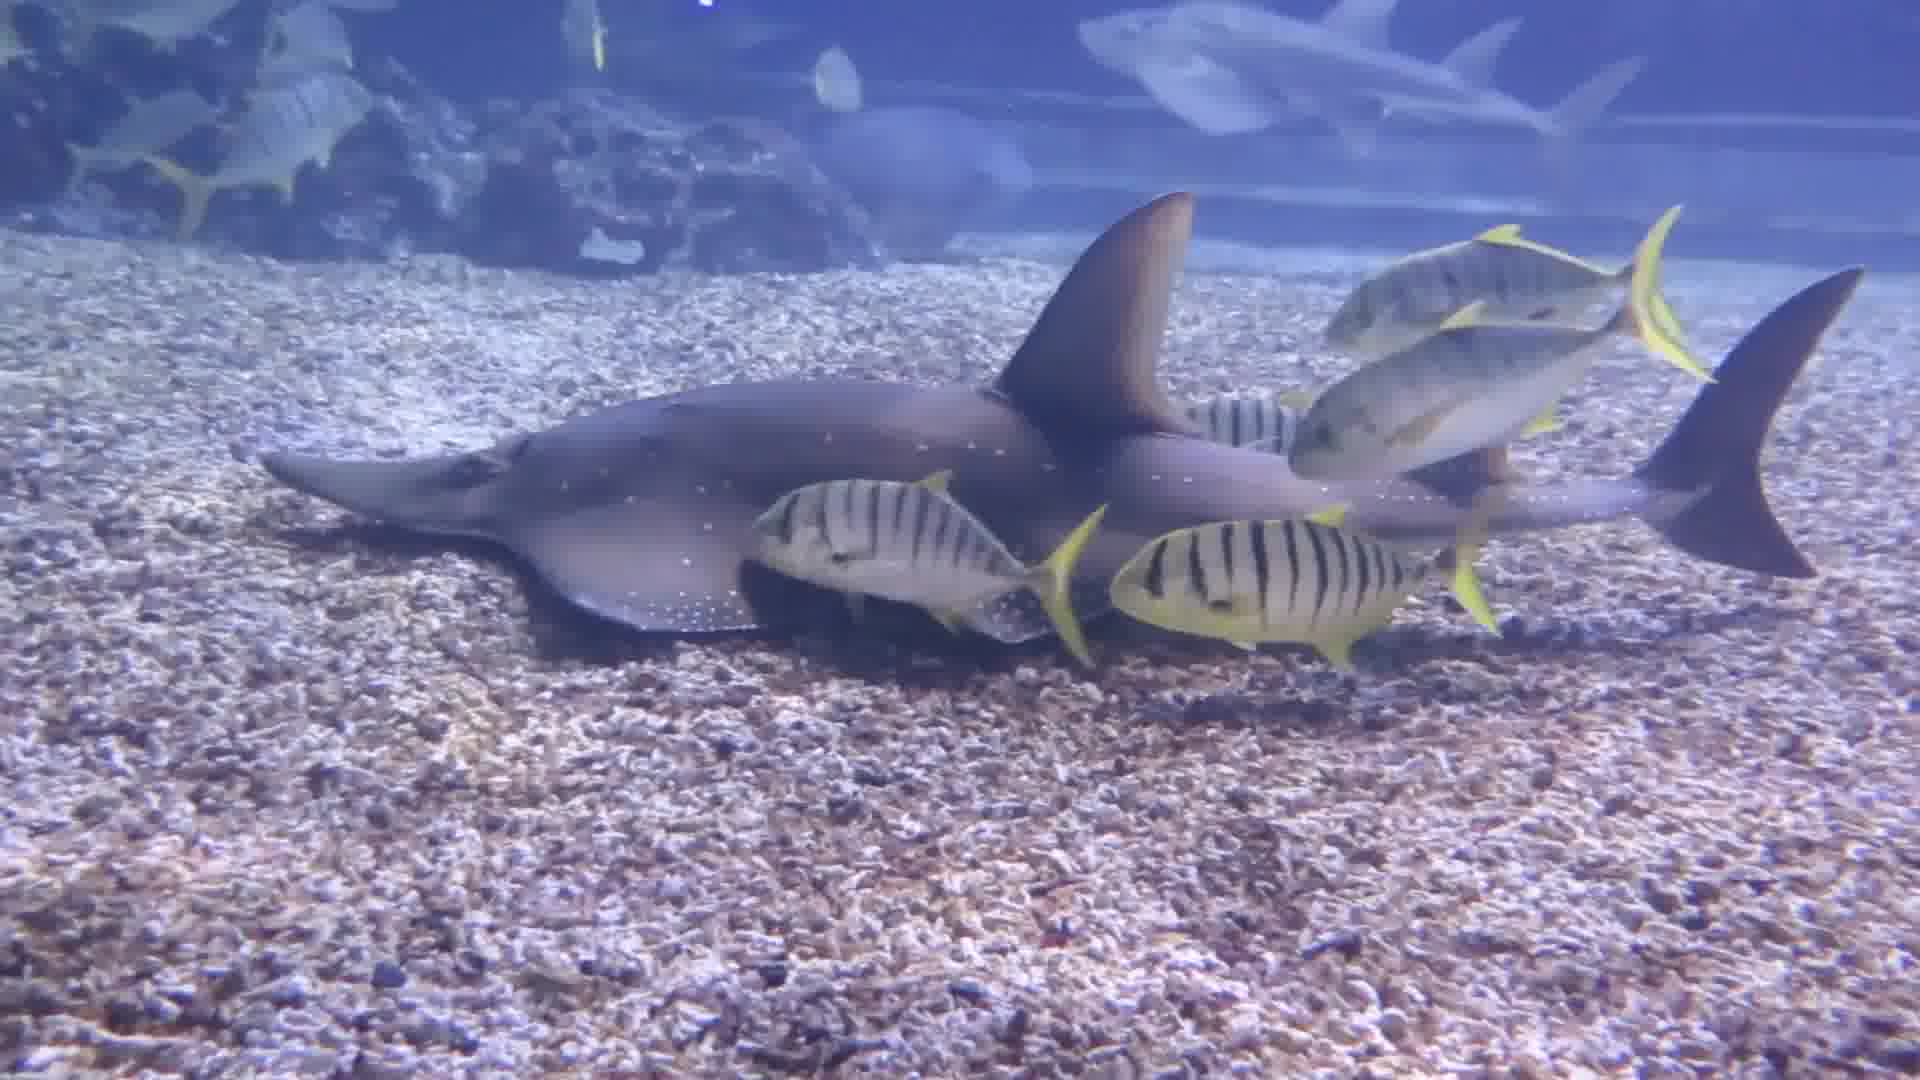Rhychobatus djiddensis: (202, 200, 1851, 678)
